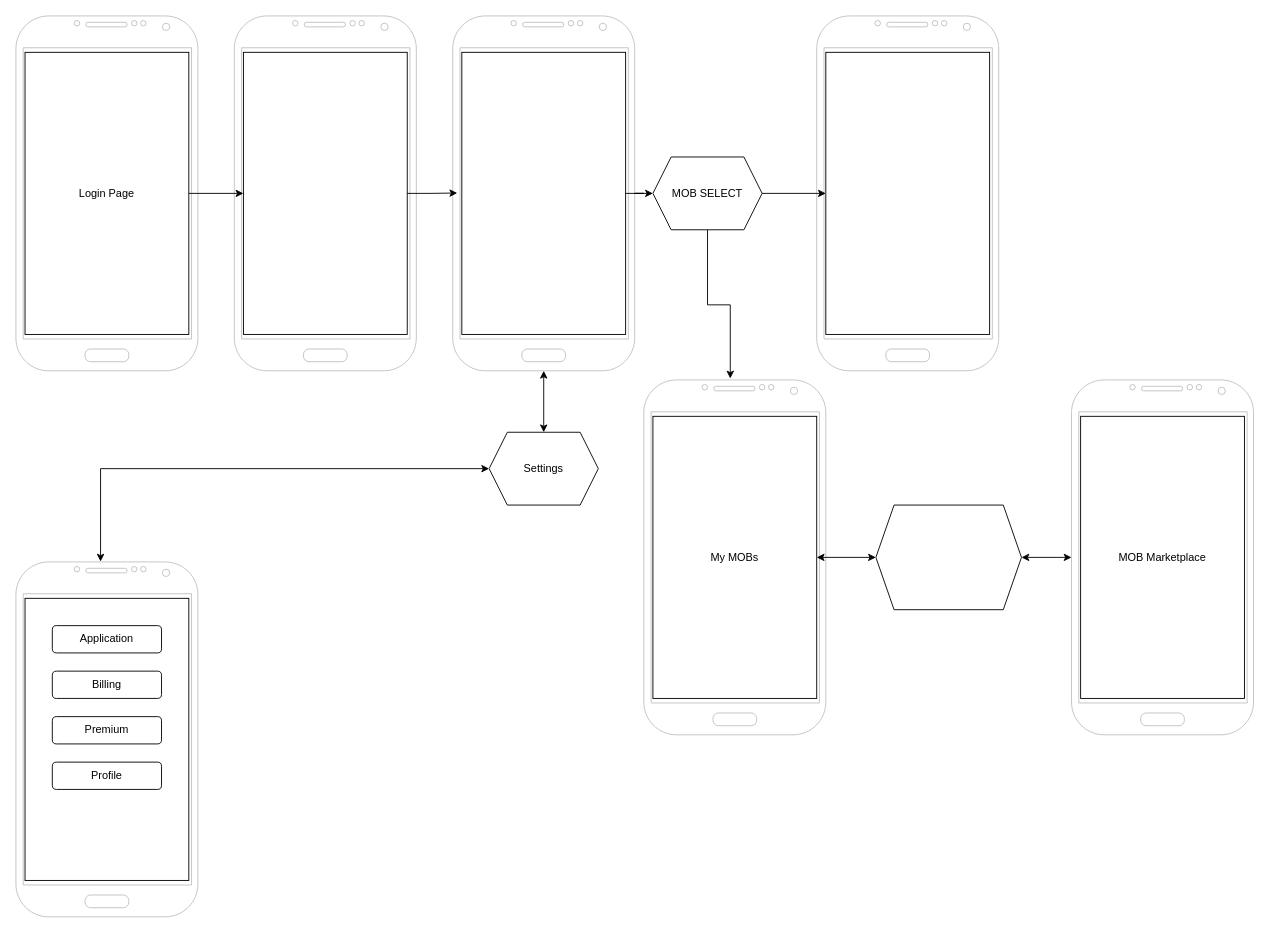
This 1269x933 diagram has some shape labels left out. The shapes that lost their labels are listed below. From the top down, each one's centre as x and y in pixels, then its label:
pixel 325 192: Login Fail/Success
pixel 543 192: MainPage
pixel 907 192: Video Page
pixel 948 557: Any MOBs selected from MOB Marketplace populate in My MOBs
